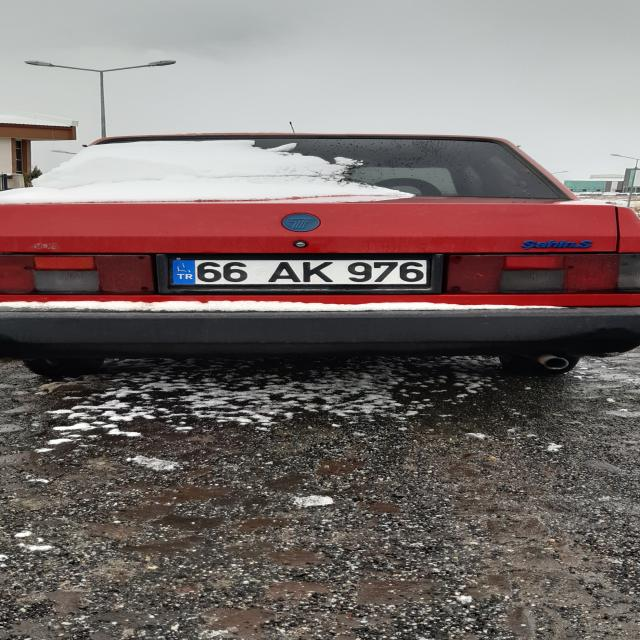license_plate: (169, 259, 429, 284)
